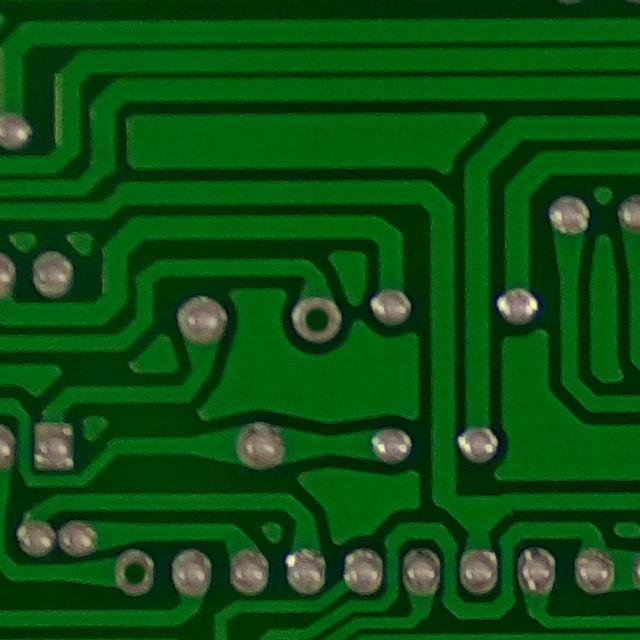missing_hole: (103, 539, 166, 607), (286, 290, 352, 349)
